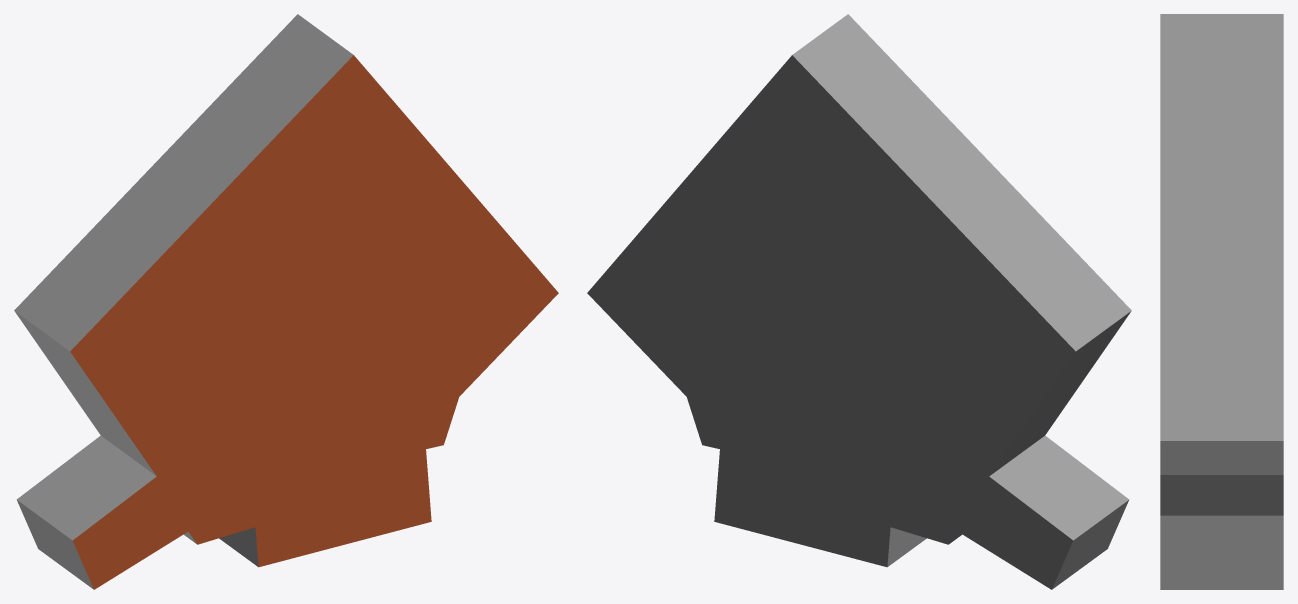
The model's file is construction_7068_assumed_A_Casa_h6m.obj.
3 views of the same model, side by side, from view 1: azimuth 30°, elevation 25°; view 2: azimuth 150°, elevation 25°; view 3: azimuth 270°, elevation 25° (orthographic). The views are drawn at different scales.
Parts seen in each view (by area): view 1: construction_7068_assumed_A_Casa; view 2: construction_7068_assumed_A_Casa; view 3: construction_7068_assumed_A_Casa.
Part boxes in pixels (x1,y1,x2,y2): construction_7068_assumed_A_Casa: [14, 14, 558, 589]; construction_7068_assumed_A_Casa: [587, 14, 1131, 589]; construction_7068_assumed_A_Casa: [1160, 14, 1283, 589].
Bounding box in the file's own units: 30.21 × 28.89 × 6.
